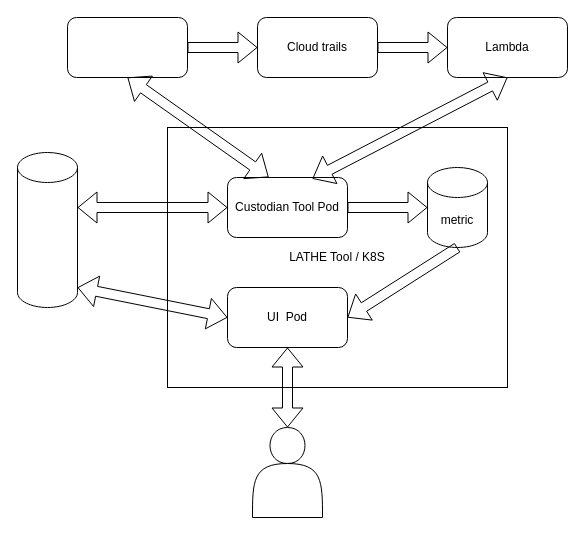
The diagram is 585 pixels wide and 535 high, and some of its shapes have lost their labels. Each missing label, with the centre of its shape:
"AWS resources" belongs at pixel 127 47.
"DevOps" belongs at pixel 287 472.
"Policy YAMLs repo" belongs at pixel 47 230.
